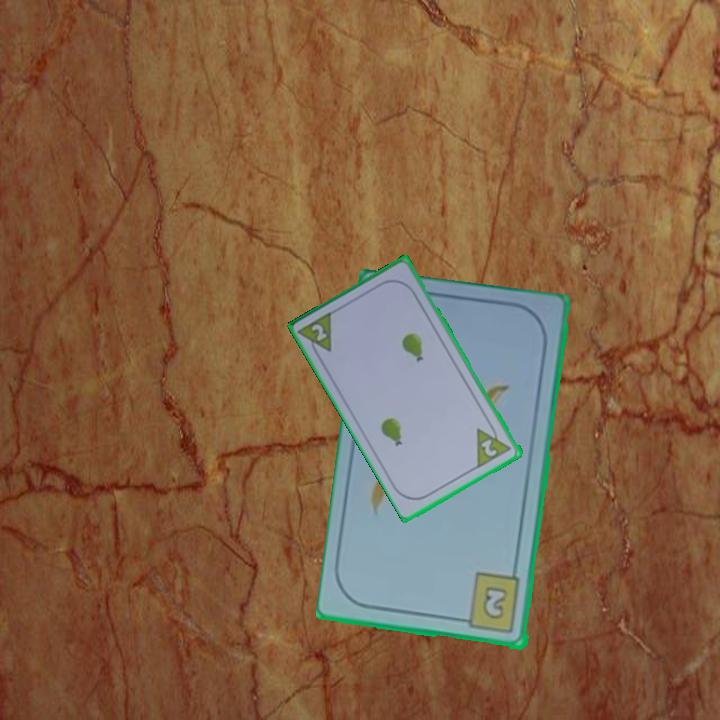2b: (456, 570, 524, 636)
2p: (473, 418, 515, 471), (296, 308, 336, 362)
